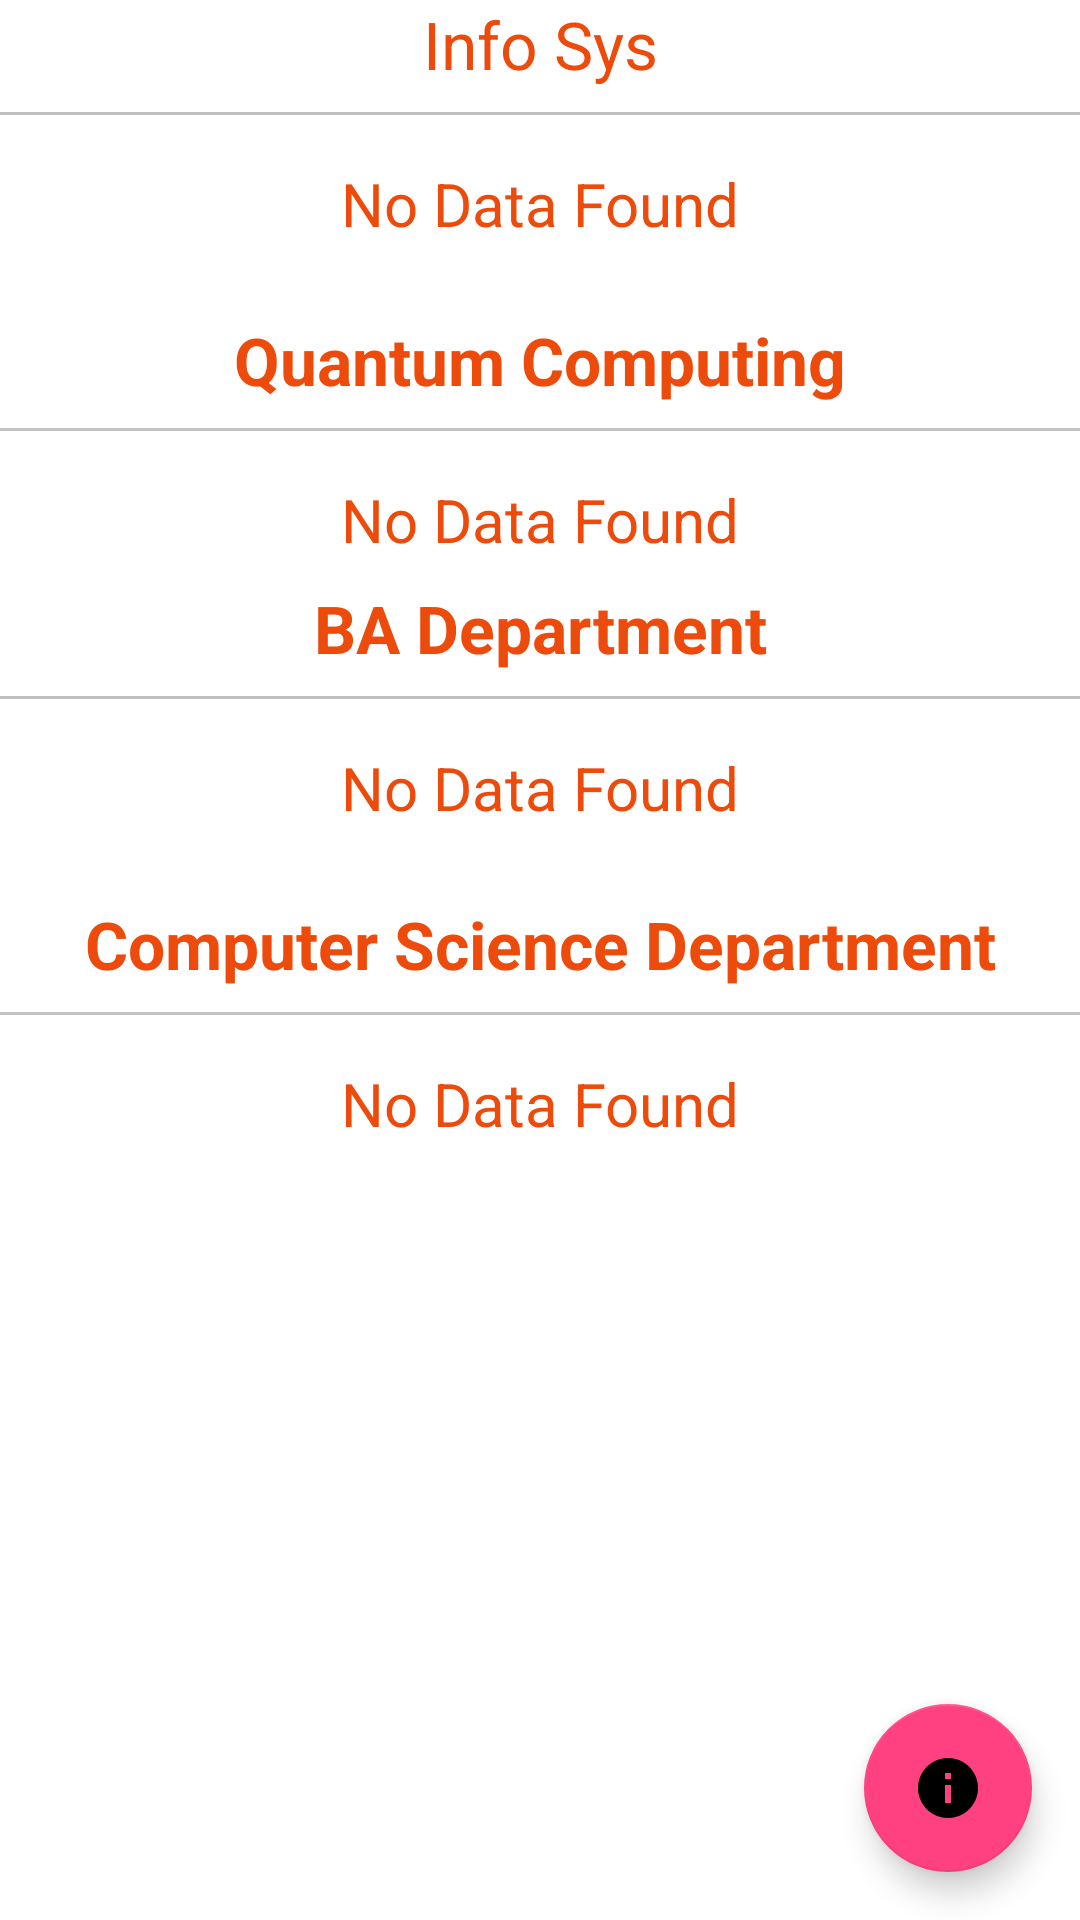

Icon click points for this 1080 x 1920 phone screenshot, format [x,y]:
info: [948,1788]
